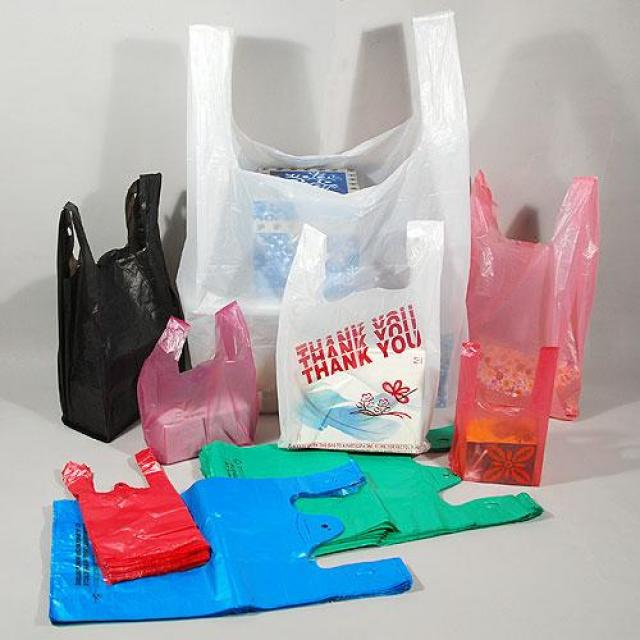plastic_bag: (172, 20, 480, 422), (34, 458, 421, 640), (428, 150, 618, 459), (190, 418, 545, 565), (33, 166, 211, 441), (47, 430, 234, 597)
